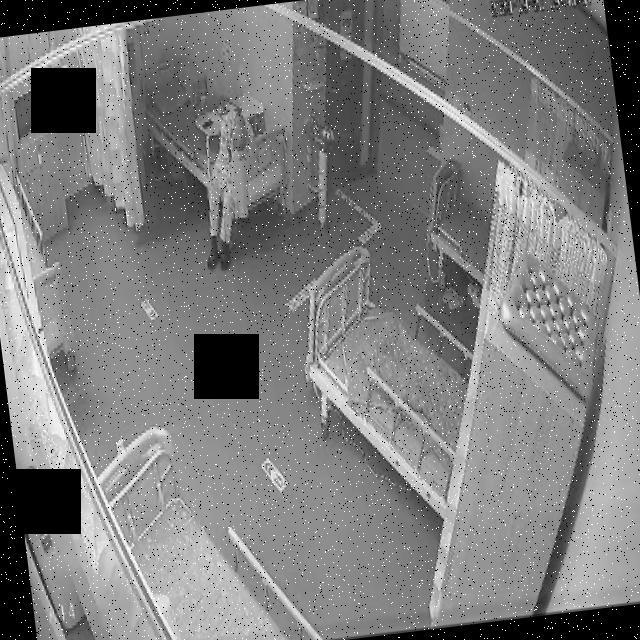bed: (294, 236, 482, 528), (90, 413, 322, 640), (132, 46, 296, 230), (421, 154, 498, 292)
patient: (188, 104, 266, 272)
sit: (190, 107, 266, 272)
